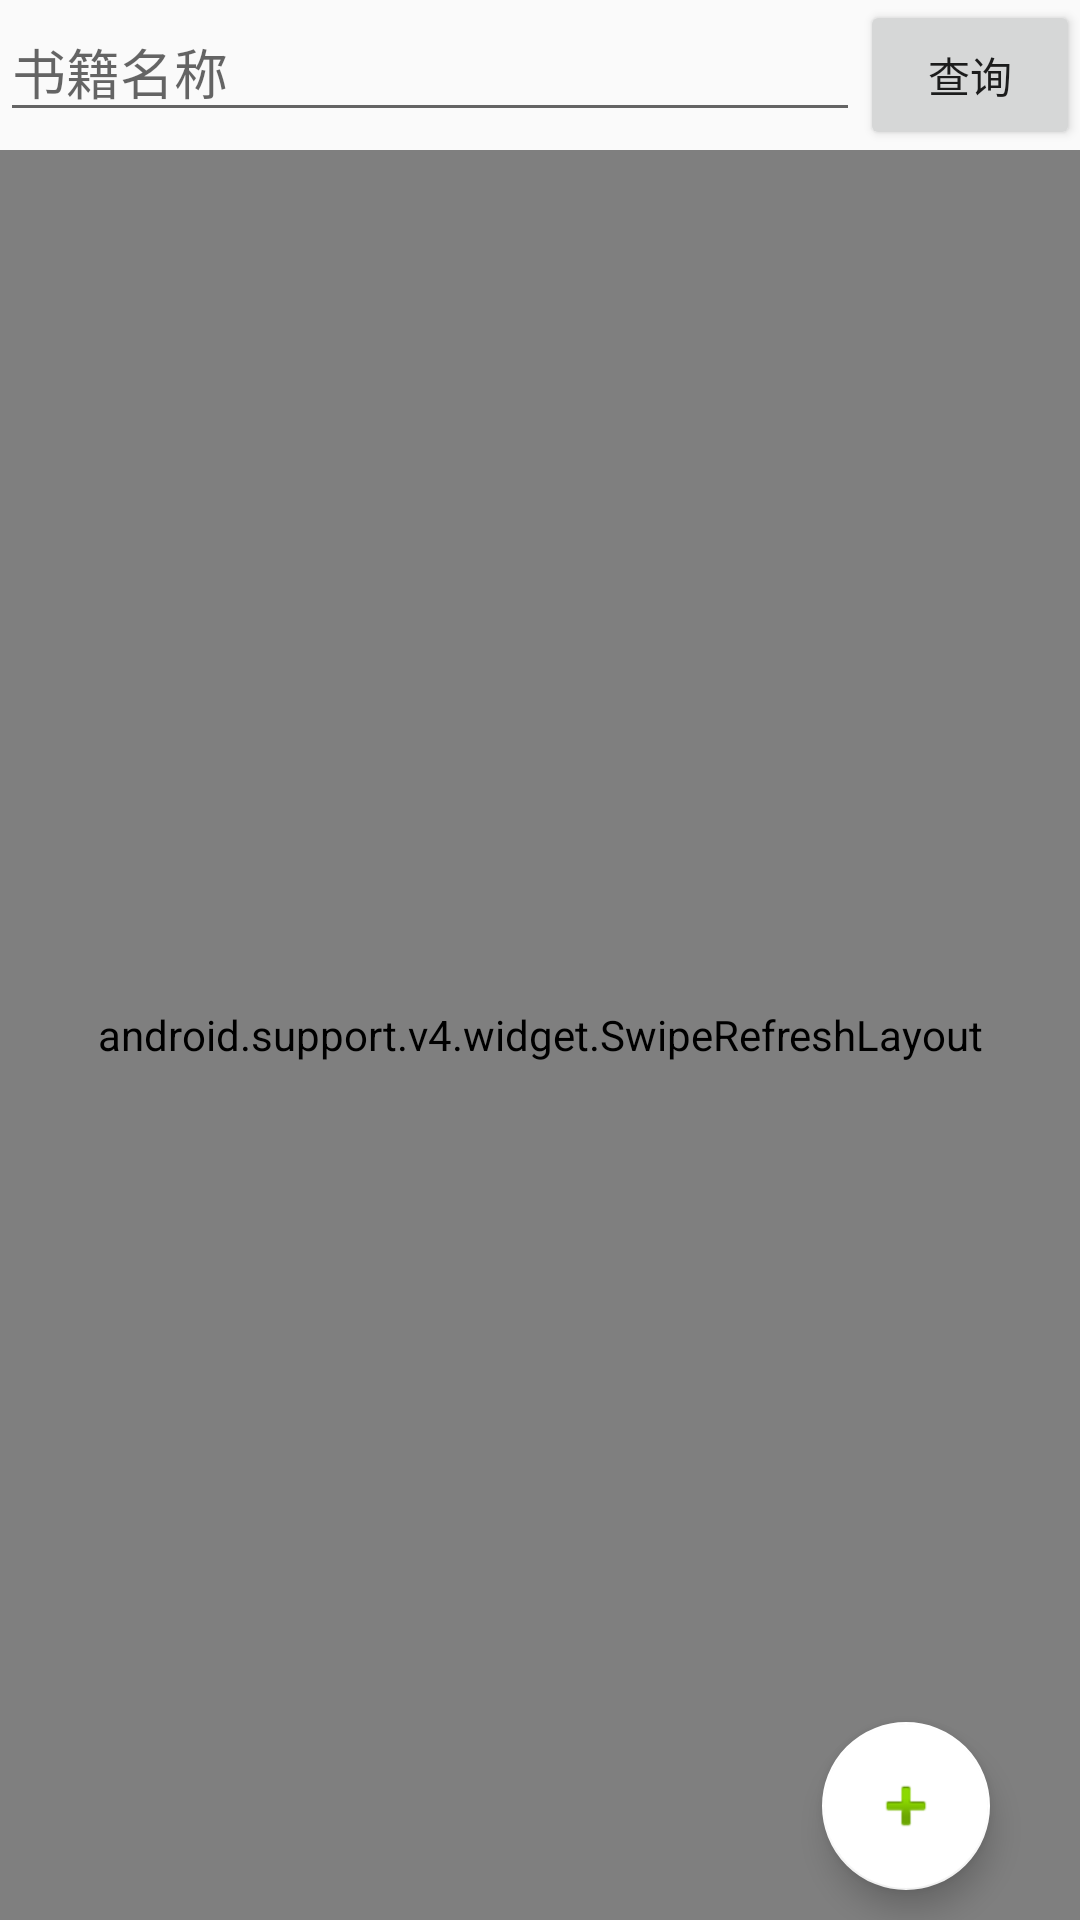

Icons on this 1080x1920 Android screen, each with its box as (x1, y1, x2, y2):
add: (822, 1722, 990, 1890)
